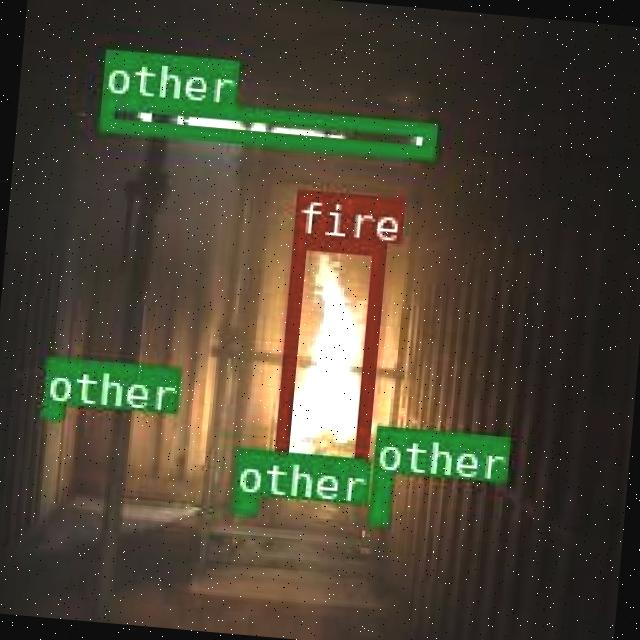fire: (270, 234, 384, 471)
